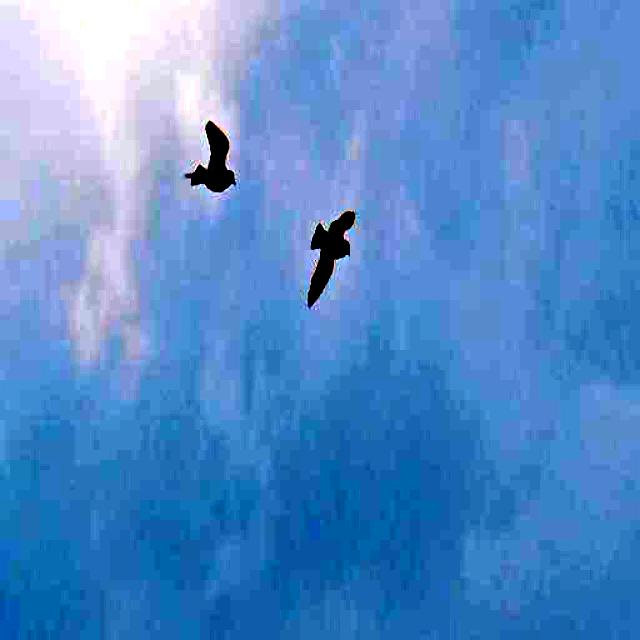airplane: (181, 99, 248, 219), (306, 192, 358, 335)
